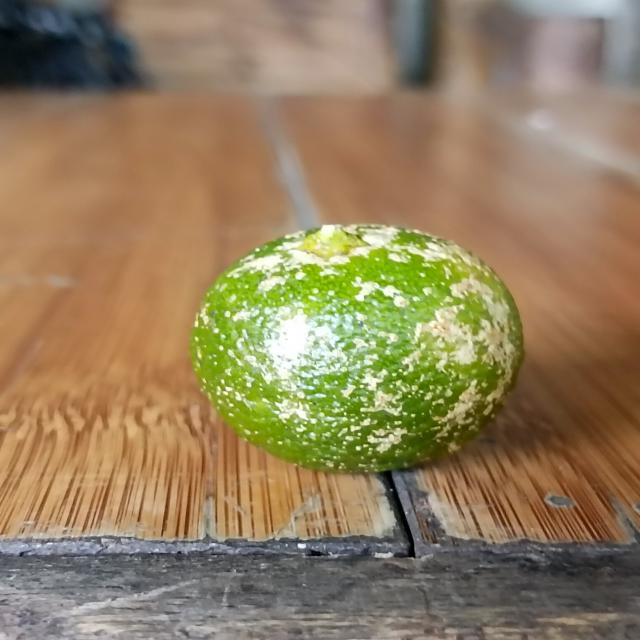scab: (189, 219, 526, 476)
